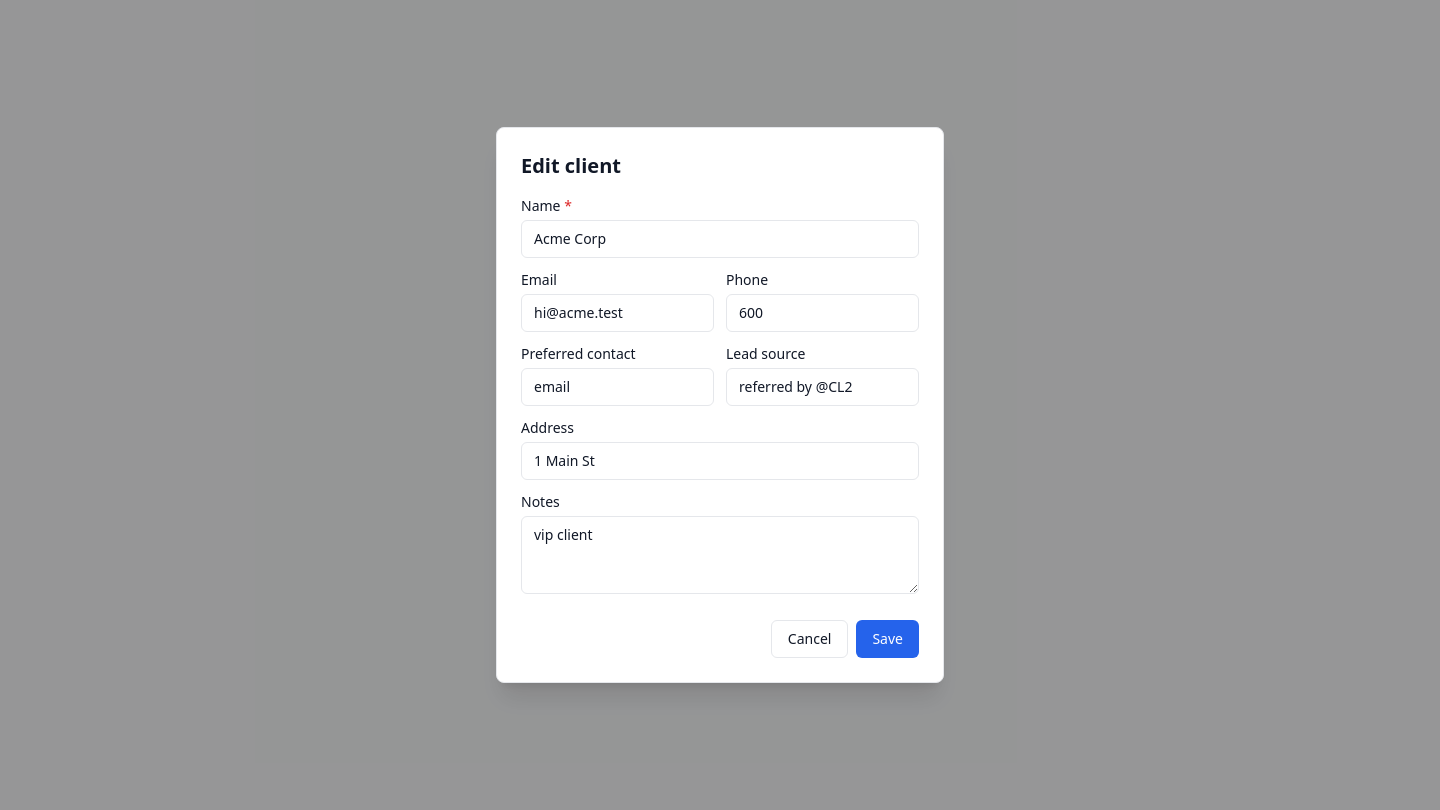
Test case: CreateClientDialog › surfaces the service error when the edited client vanished
Click the button "Save" at (888, 639), box [856, 620, 919, 658]
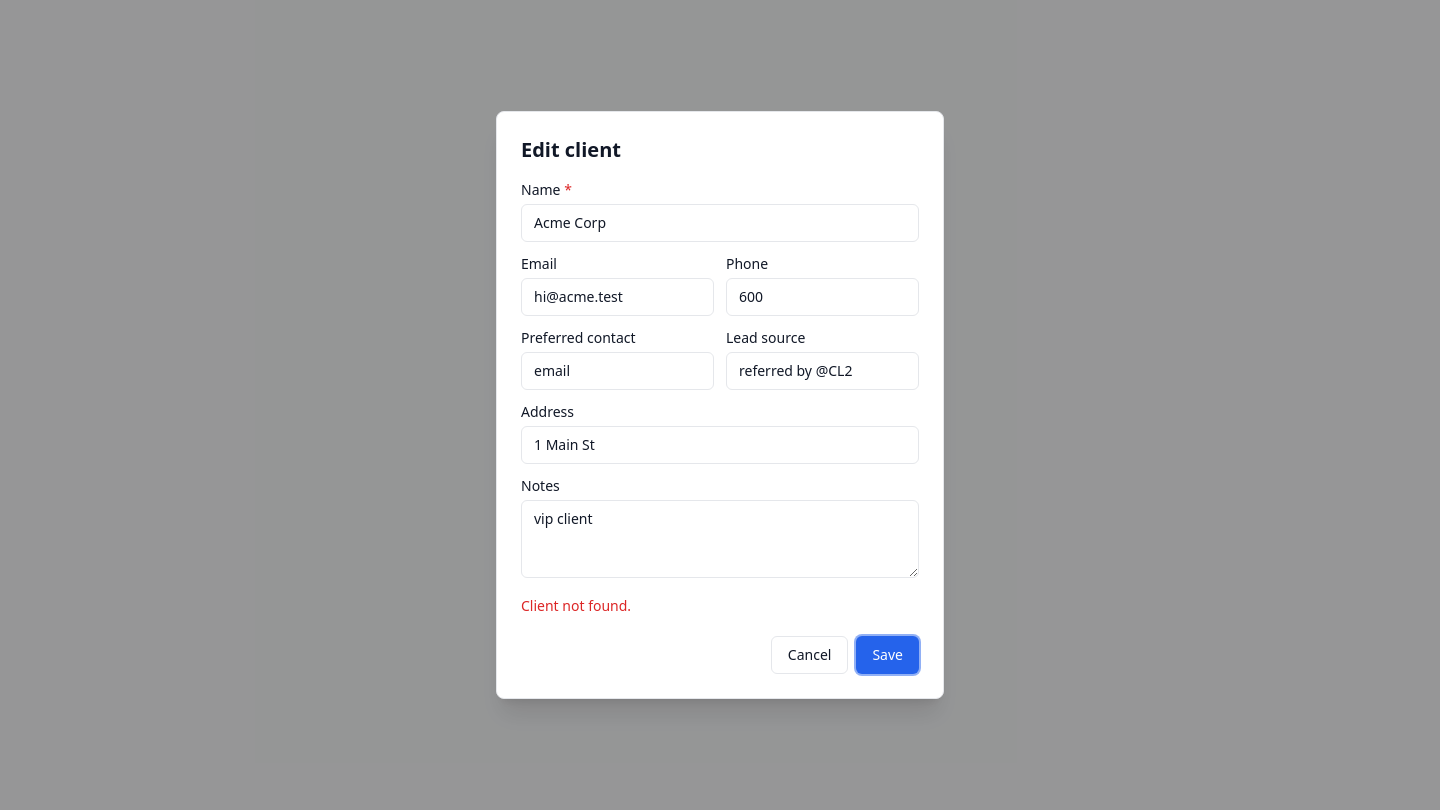
Check: the message reads "Client not found.", box [521, 596, 631, 615]
